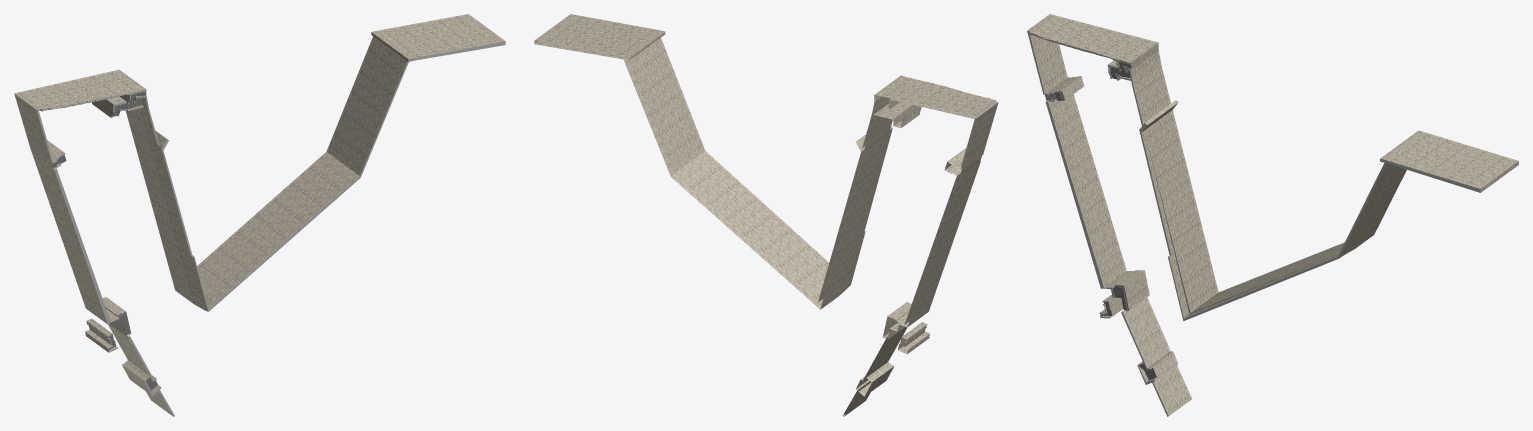
The model's file is Hirvepargi_myyr-origo.obj.
3 views of the same model, side by side, from view 1: azimuth 30°, elevation 25°; view 2: azimuth 150°, elevation 25°; view 3: azimuth 330°, elevation 25° (orthographic). The views are drawn at different scales.
Visible parts, largest first — view 1: Hirvepargi_myyr; view 2: Hirvepargi_myyr; view 3: Hirvepargi_myyr.
Part boxes in pixels (x1=…): Hirvepargi_myyr: x1=14, y1=14, x2=505, y2=416; Hirvepargi_myyr: x1=534, y1=14, x2=998, y2=416; Hirvepargi_myyr: x1=1027, y1=14, x2=1518, y2=416.
Size of the model in its own units: 249 by 178 by 35.39.
